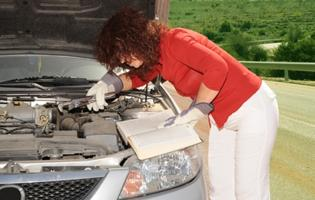person: (83, 6, 281, 200)
